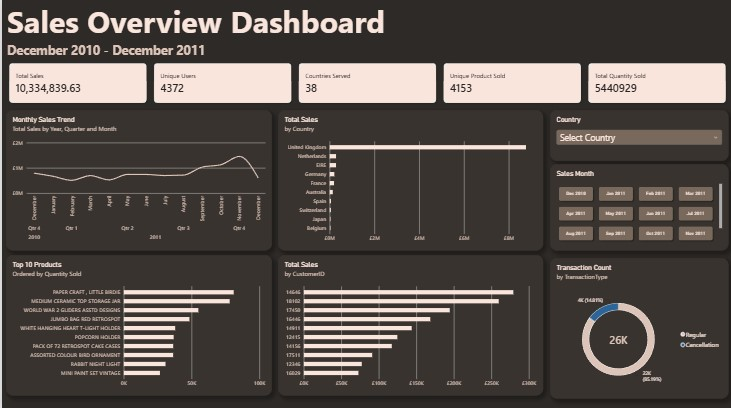

The dashboard page shown, as its layout file describes it:
{"tool":"powerbi","page":{"name":"Sales Overview","canvas":[1920,1080],"ordinal":0},"visuals":[{"type":"cardVisual","fields":{"Data":["Online_Retail_Cleaned.Total Sales","Online_Retail_Cleaned.Unique Users","Online_Retail_Cleaned.Countries Served","Online_Retail_Cleaned.Product Sold","Online_Retail_Cleaned.Total Quantity Sold"]},"box":[13.8,160,1897.5,116.2],"z":0},{"type":"lineChart","title":"Monthly Sales Trend","fields":{"Category":["Online_Retail_Cleaned.Invoice Month.Variation.Date Hierarchy.Year","Online_Retail_Cleaned.Invoice Month.Variation.Date Hierarchy.Quarter","Online_Retail_Cleaned.Invoice Month.Variation.Date Hierarchy.Month"],"Y":["Online_Retail_Cleaned.Total Sales"]},"box":[10,290,700,370],"z":1000},{"type":"clusteredBarChart","title":"Top 10 Products ","fields":{"Category":["Online_Retail_Cleaned.Description"],"Y":["Sum(Online_Retail_Cleaned.Quantity)"]},"box":[10,670,700,370],"z":2000},{"type":"clusteredBarChart","fields":{"Category":["Online_Retail_Cleaned.Country"],"Y":["Online_Retail_Cleaned.Total Sales"]},"box":[727.5,290,697.5,370],"z":3000},{"type":"clusteredBarChart","fields":{"Category":["Online_Retail_Cleaned.CustomerID"],"Y":["Online_Retail_Cleaned.Total Sales"]},"box":[727.5,670,697.5,370],"z":4000},{"type":"listSlicer","fields":{"Values":["Online_Retail_Cleaned.Country"]},"box":[1442,290,470,134],"z":5000},{"type":"advancedSlicerVisual","fields":{"Values":["Online_Retail_Cleaned.Sales Month"]},"box":[1441.7,432.5,470,227.5],"z":6000},{"type":"textbox","title":"Sales Overview Dashboard","box":[13.3,0,1900,150],"z":7000},{"type":"donutChart","fields":{"Category":["Online_Retail_Cleaned.TransactionType"],"Y":["Online_Retail_Cleaned.Transaction Count"]},"box":[1442.5,670,470,370],"z":8000}]}

Visuals, with their boxes in screenshot pixels (x1, y1, x2, y2), scaled from the page's 1920x1080 canvas onto the 731x408 screenshot:
cardVisual - Online_Retail_Cleaned.Total Sales x Online_Retail_Cleaned.Unique Users: BBox(5, 60, 728, 104)
"Monthly Sales Trend" lineChart: BBox(4, 110, 270, 249)
"Top 10 Products " clusteredBarChart: BBox(4, 253, 270, 393)
clusteredBarChart - Online_Retail_Cleaned.Country x Online_Retail_Cleaned.Total Sales: BBox(277, 110, 543, 249)
clusteredBarChart - Online_Retail_Cleaned.CustomerID x Online_Retail_Cleaned.Total Sales: BBox(277, 253, 543, 393)
listSlicer - Online_Retail_Cleaned.Country: BBox(549, 110, 728, 160)
advancedSlicerVisual - Online_Retail_Cleaned.Sales Month: BBox(549, 163, 728, 249)
"Sales Overview Dashboard" textbox: BBox(5, 0, 728, 57)
donutChart - Online_Retail_Cleaned.TransactionType x Online_Retail_Cleaned.Transaction Count: BBox(549, 253, 728, 393)
